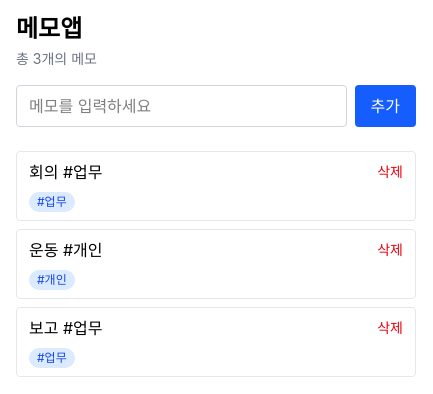
Test: App 태그 필터 › should show only the #업무 memos when the #업무 chip is clicked
Click the button "#업무" below "회의 #업무": (52, 202) [29, 192, 75, 212]
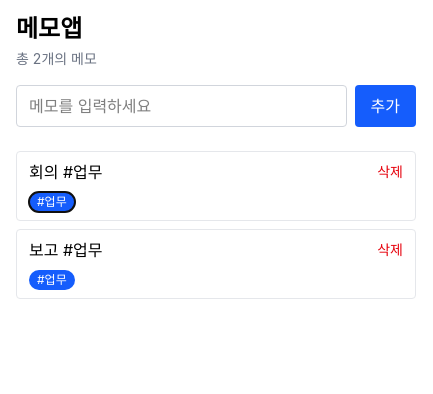
Check: the text "회의 #업무" is shown, box [29, 160, 102, 184]
Check: the text "운동 #개인" is gone
